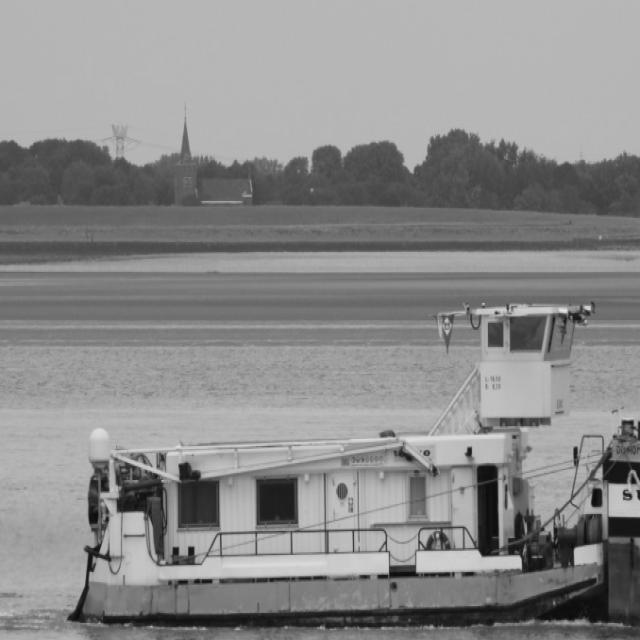tugboat: (66, 295, 626, 640)
